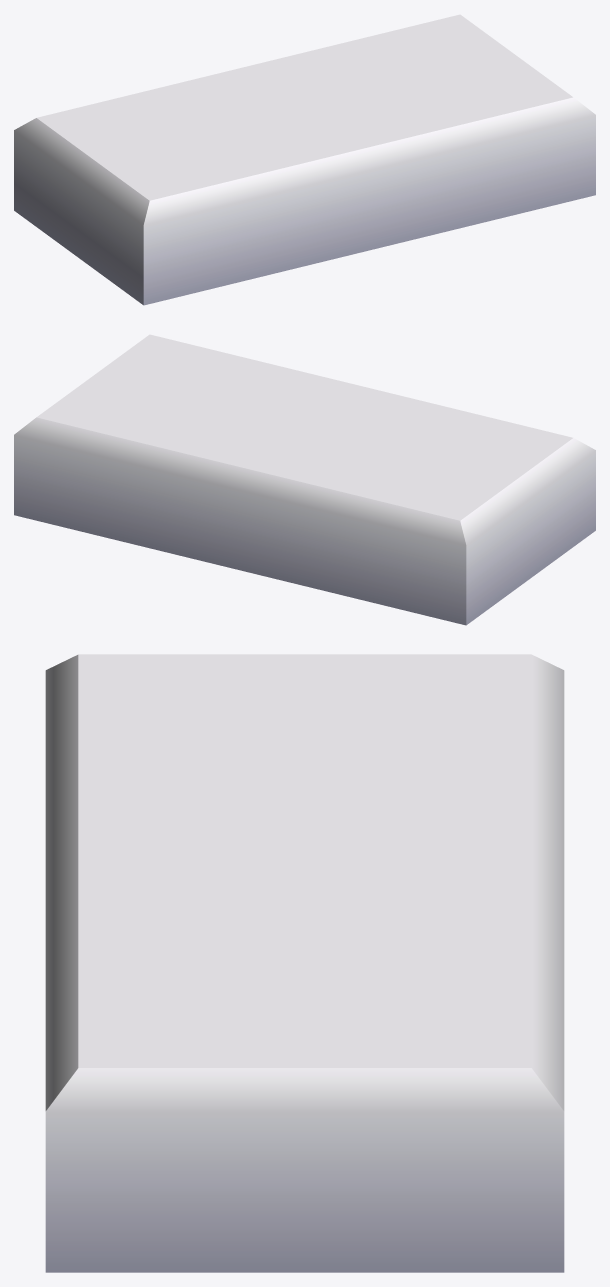
File: kenney-brick-none-hq-plate-1-x-2.glb
The picture shows the model from 3 angles, top to bottom: view 1: azimuth 30°, elevation 25°; view 2: azimuth 150°, elevation 25°; view 3: azimuth 270°, elevation 25°; orthographic projection. The views are drawn at different scales.
Parts seen in each view (by area): view 1: none-hq-plate-1x2; view 2: none-hq-plate-1x2; view 3: none-hq-plate-1x2.
Part boxes in pixels (bbox=[...]): none-hq-plate-1x2: bbox=[14, 14, 595, 305]; none-hq-plate-1x2: bbox=[14, 334, 595, 625]; none-hq-plate-1x2: bbox=[45, 654, 564, 1272].
Bounding box in the file's own units: 0.159 × 0.032 × 0.079.
1 material, 1 textured.
